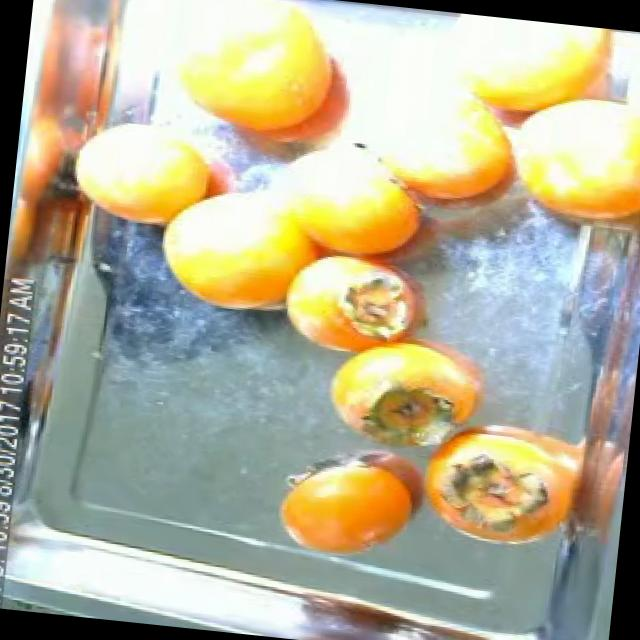Fruit: (136, 160, 352, 336), (306, 318, 508, 475), (52, 96, 250, 248), (406, 407, 596, 565), (258, 429, 442, 576)
